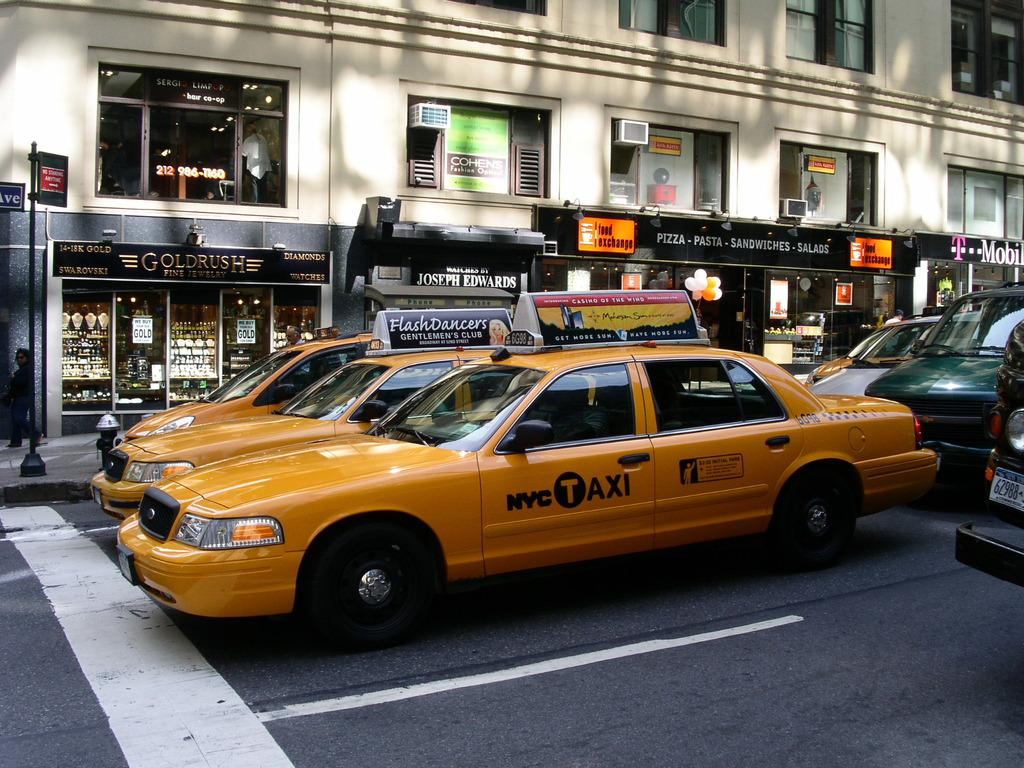taxi: (116, 289, 939, 651), (88, 310, 515, 525), (125, 336, 373, 441)
